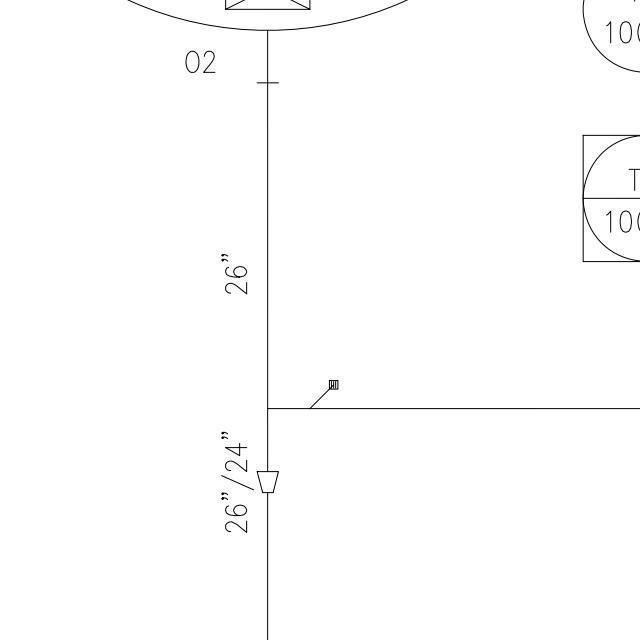SP: (253, 460, 283, 497)
